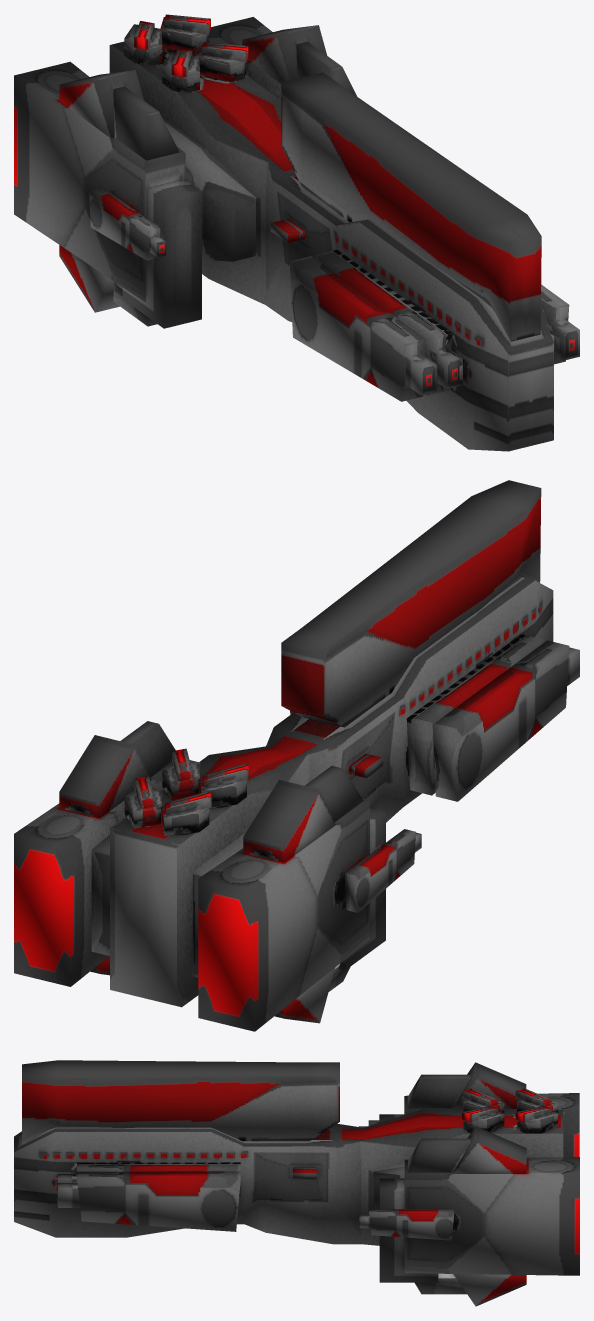
File: red_spaceship_01.fbx
3 renders of one model, top to bottom at view 1: azimuth 30°, elevation 25°; view 2: azimuth 150°, elevation 25°; view 3: azimuth 270°, elevation 25°, orthographic. The views are drawn at different scales.
Parts seen in each view (by area): view 1: RSCruiserMod; view 2: RSCruiserMod; view 3: RSCruiserMod.
Boxes of the visible parts, x1,y1,x2,y2 form: RSCruiserMod: [14, 14, 579, 451]; RSCruiserMod: [14, 480, 579, 1031]; RSCruiserMod: [14, 1060, 579, 1306].
Size of the model in its own units: 1679 by 4321 by 1668.
